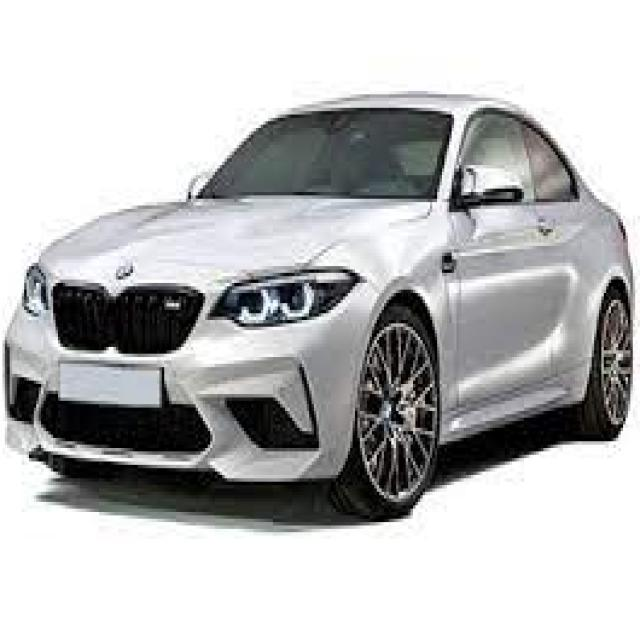car: (5, 93, 640, 524)
